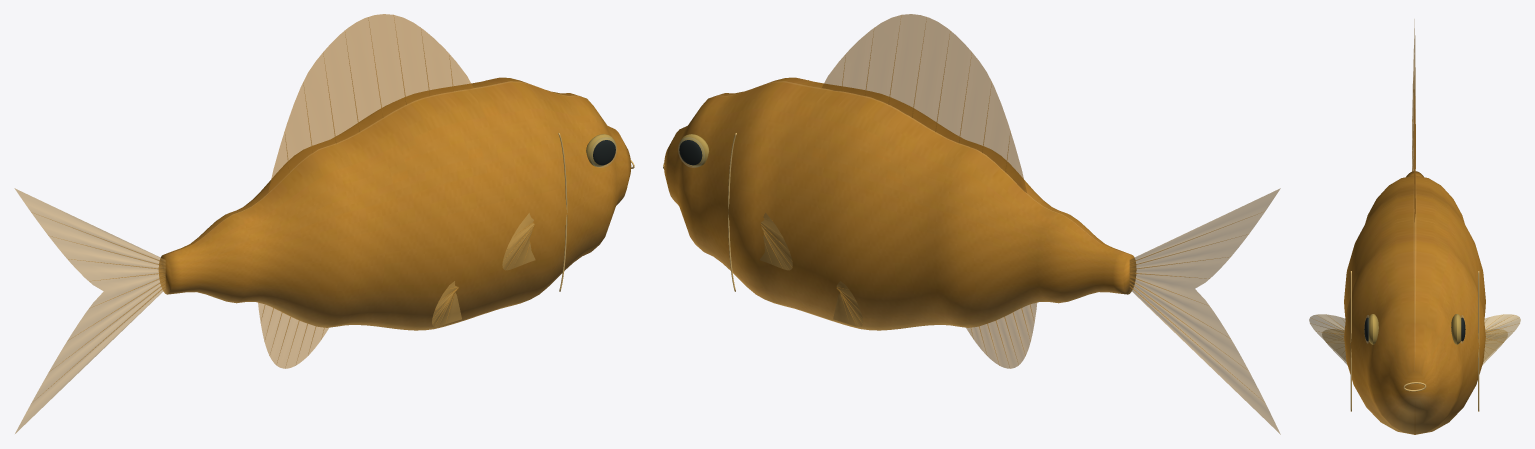
File: goldfish-mobile.glb
3 renders of one model, left to right at view 1: azimuth 30°, elevation 25°; view 2: azimuth 150°, elevation 25°; view 3: azimuth 270°, elevation 25°, orthographic. The views are drawn at different scales.
Parts seen in each view (by area): view 1: skin, dorsal, tail, anal, dorsal-ray, pectoral-left, pelvic-left; view 2: skin, dorsal, tail, anal, dorsal-ray, pectoral-left, pelvic-left; view 3: skin, pectoral-left, pelvic-left, operculum, eye-iris--1, tail, dorsal, dorsal-ray.
Boxes of the visible parts, x1,y1,x2,y2 form: skin: [159, 77, 631, 330]; dorsal: [268, 14, 473, 192]; tail: [14, 188, 165, 433]; anal: [258, 302, 328, 368]; dorsal-ray: [31, 15, 534, 403]; pectoral-left: [502, 213, 535, 270]; pelvic-left: [432, 281, 461, 326]; skin: [664, 77, 1136, 330]; dorsal: [822, 14, 1026, 192]; tail: [1129, 188, 1280, 434]; anal: [966, 303, 1036, 368]; dorsal-ray: [761, 17, 1262, 400]; pectoral-left: [760, 213, 792, 270]; pelvic-left: [833, 281, 863, 326]; skin: [1344, 171, 1485, 434]; pectoral-left: [1309, 314, 1520, 361]; pelvic-left: [1322, 329, 1507, 364]; operculum: [1350, 271, 1479, 411]; eye-iris--1: [1368, 314, 1461, 344]; tail: [1412, 19, 1415, 171]; dorsal: [1414, 94, 1415, 221]; dorsal-ray: [1312, 157, 1515, 352].
Size of the model in its own units: 0.6092 by 0.315 by 0.2061.
Materials: 11 (1 with a texture image).
